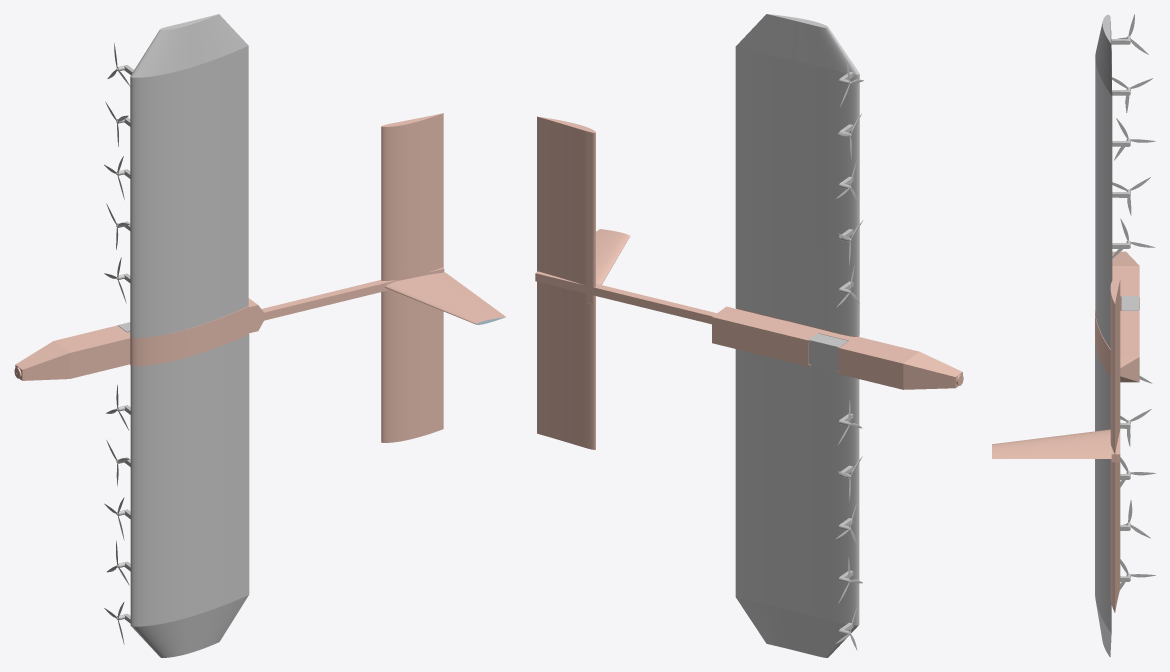
Rendered from blown.gltf.
3 renders of one model, left to right at view 1: azimuth 30°, elevation 25°; view 2: azimuth 150°, elevation 25°; view 3: azimuth 270°, elevation 25°, orthographic. The views are drawn at different scales.
Visible parts, largest first — view 1: Part 1 (×2), Part 2; view 2: Part 1 (×3), Part 2; view 3: Part 1 (×3), Part 2.
Boxes of the visible parts, bbox=[...] form: Part 1 (×2): bbox=[14, 14, 505, 442]; Part 2: bbox=[116, 334, 249, 657]; Part 1 (×3): bbox=[535, 14, 963, 449]; Part 2: bbox=[735, 349, 859, 657]; Part 1 (×3): bbox=[992, 14, 1139, 612]; Part 2: bbox=[1095, 341, 1130, 657].
Bounding box in the file's own units: 2.82 × 3.97 × 0.9598.
